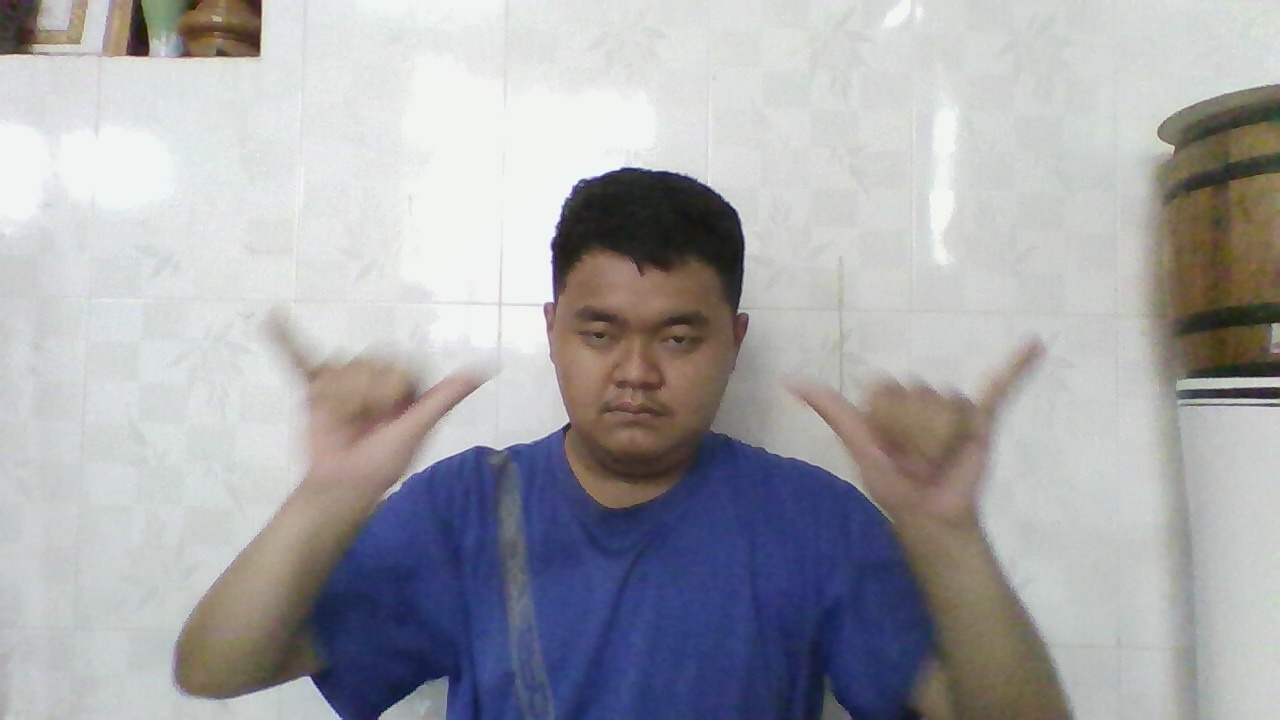Y: (780, 330, 1049, 538), (257, 304, 494, 498)
